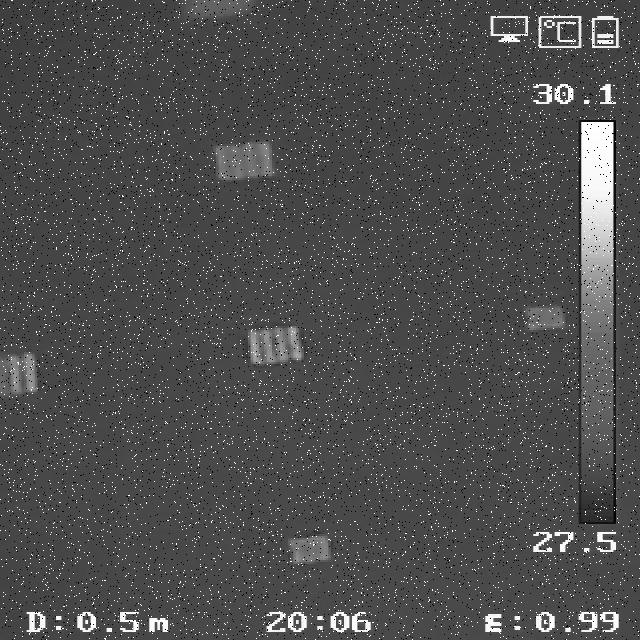Distinguishable 4-bar target: (247, 327, 305, 367), (4, 352, 40, 401)
Indistinguishable 4-bar target: (525, 300, 567, 333), (292, 536, 328, 563)
threshold 4-bar target: (214, 142, 270, 178)
